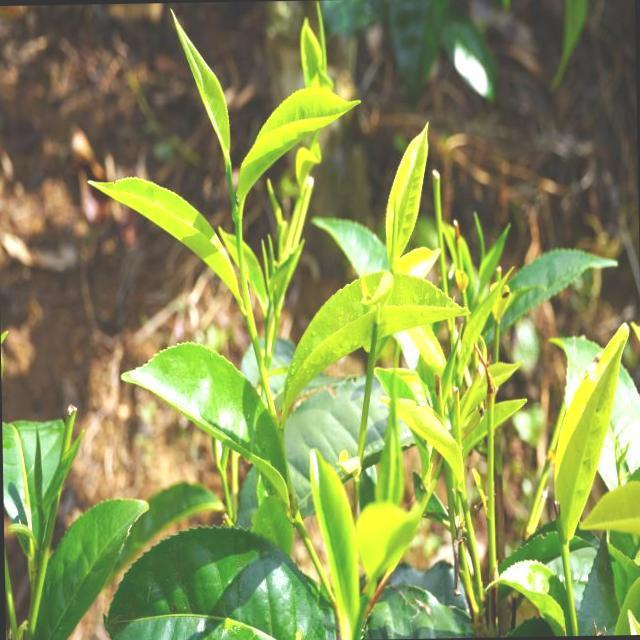Stem: (232, 208, 241, 220)
